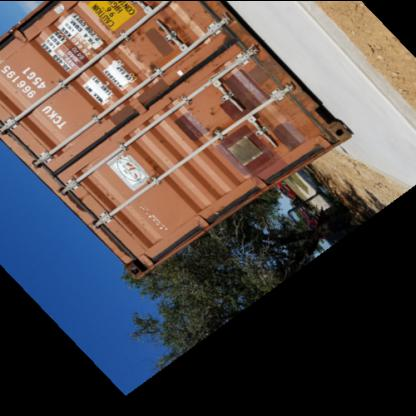Damage: (131, 46, 163, 76), (62, 186, 98, 208), (194, 124, 216, 136), (206, 100, 218, 118)
